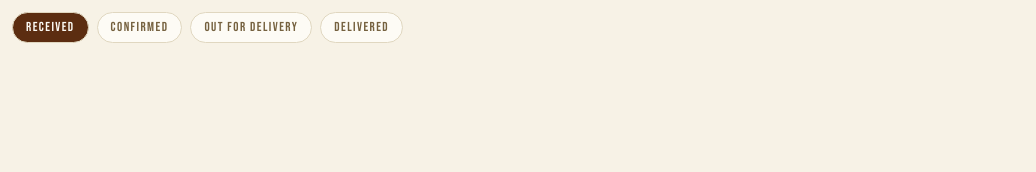
Test: OrderStatusActions › shows an error message and does not refresh when the update fails
Click the button "Confirmed" at [140, 28], box [97,12,182,43]
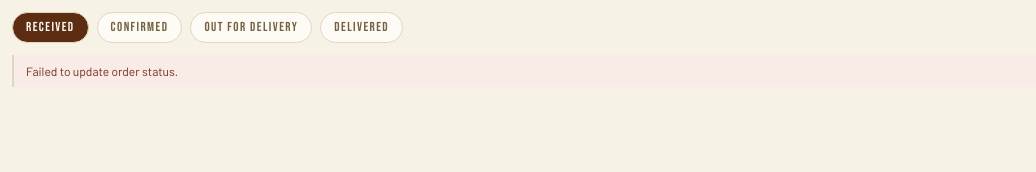
Expected: the text "Failed to update order status." is shown, [12,55,1035,87]
